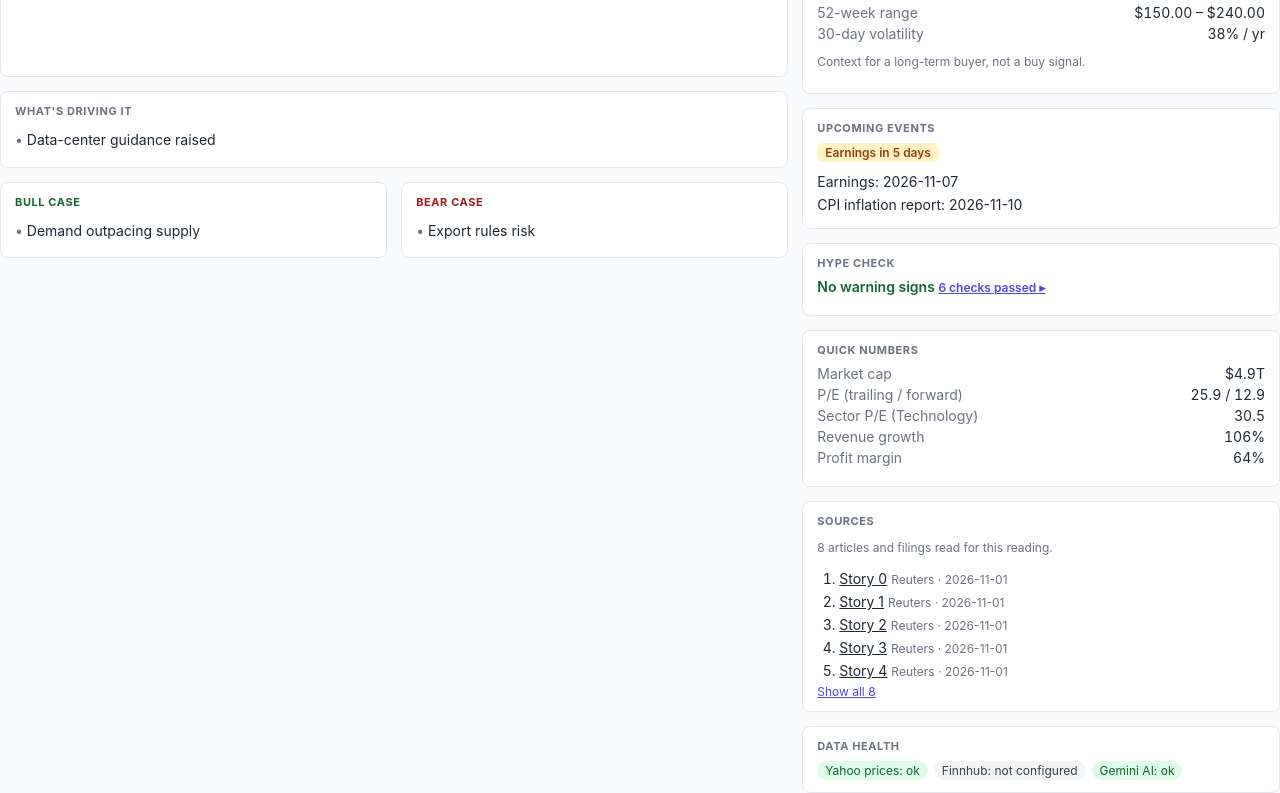
Test: sources show the top 5 with outlet names, the rest on demand
The image size is (1280, 793).
(page scrolled)
Expected: the number of links is 5, 839,570 -> 887,587; 839,593 -> 884,610; 839,616 -> 887,633; 839,639 -> 887,656; 839,662 -> 888,679
Expected: the text "Reuters · 2026-11-01" is shown 5 times, 891,572 -> 1008,587; 888,595 -> 1004,610; 891,618 -> 1007,633; 891,641 -> 1007,656; 891,664 -> 1008,679
Click the button "Show all 8" at (846,692), box 817,684 -> 876,699
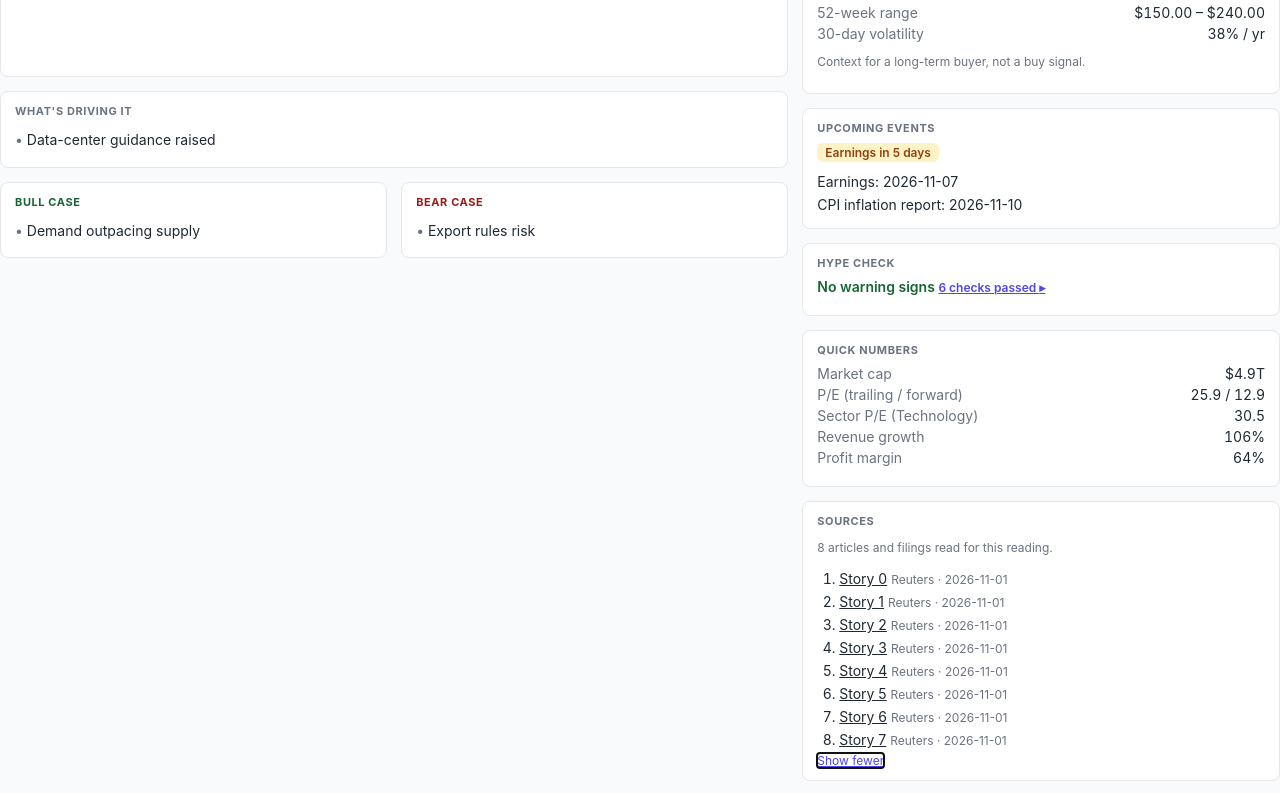
Expected: the number of links is 8
